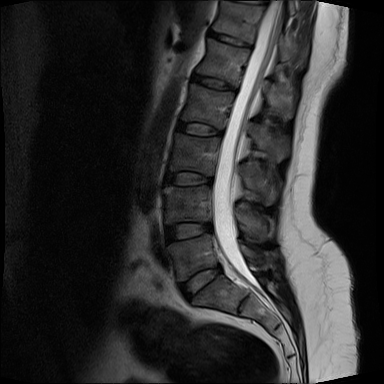Lumbar Disc Bulge (LDB): (175, 264, 227, 304)
Normal IVD: (158, 210, 217, 249), (182, 70, 242, 98), (153, 166, 218, 191), (170, 115, 228, 141), (205, 29, 257, 54)
Spinal Stenosis (SS): (213, 259, 226, 278)
